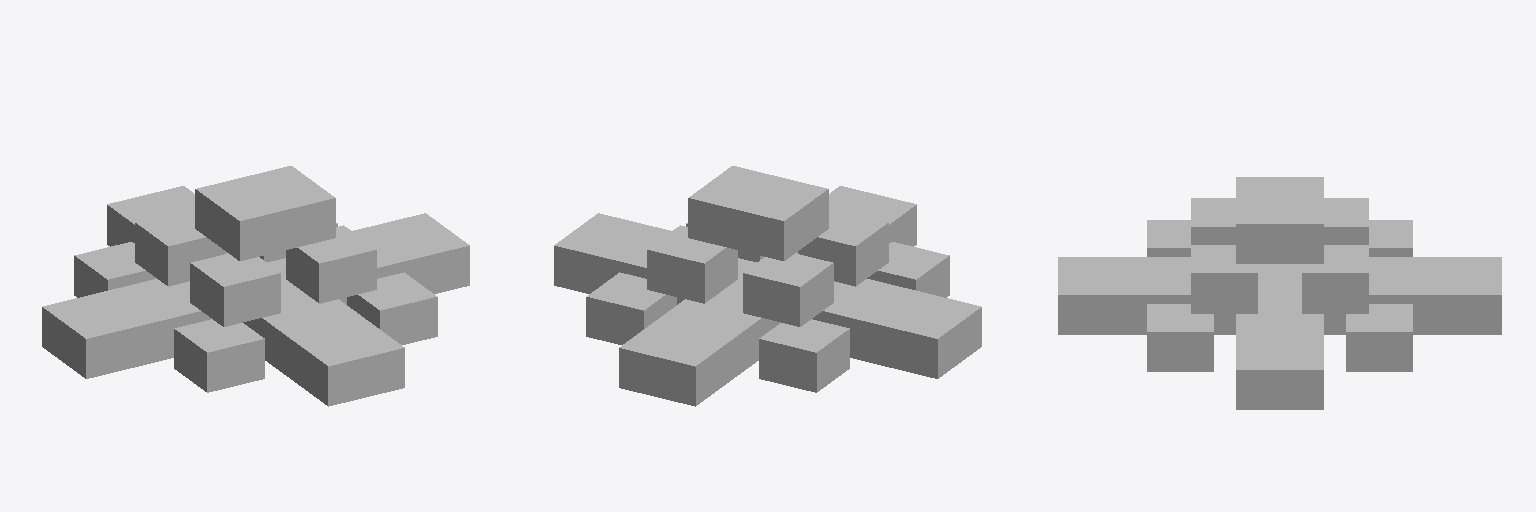
File: feux.obj
3 views of the same model, side by side, from view 1: azimuth 30°, elevation 25°; view 2: azimuth 150°, elevation 25°; view 3: azimuth 270°, elevation 25° (orthographic).
Visible parts, largest first — view 1: cube; view 2: cube; view 3: cube.
Part boxes in pixels (x1,y1,x2,y2): cube: (42, 166, 469, 406); cube: (554, 166, 981, 406); cube: (1058, 177, 1501, 409).
Bounding box in the file's own units: 1.25 × 0.375 × 1.25.